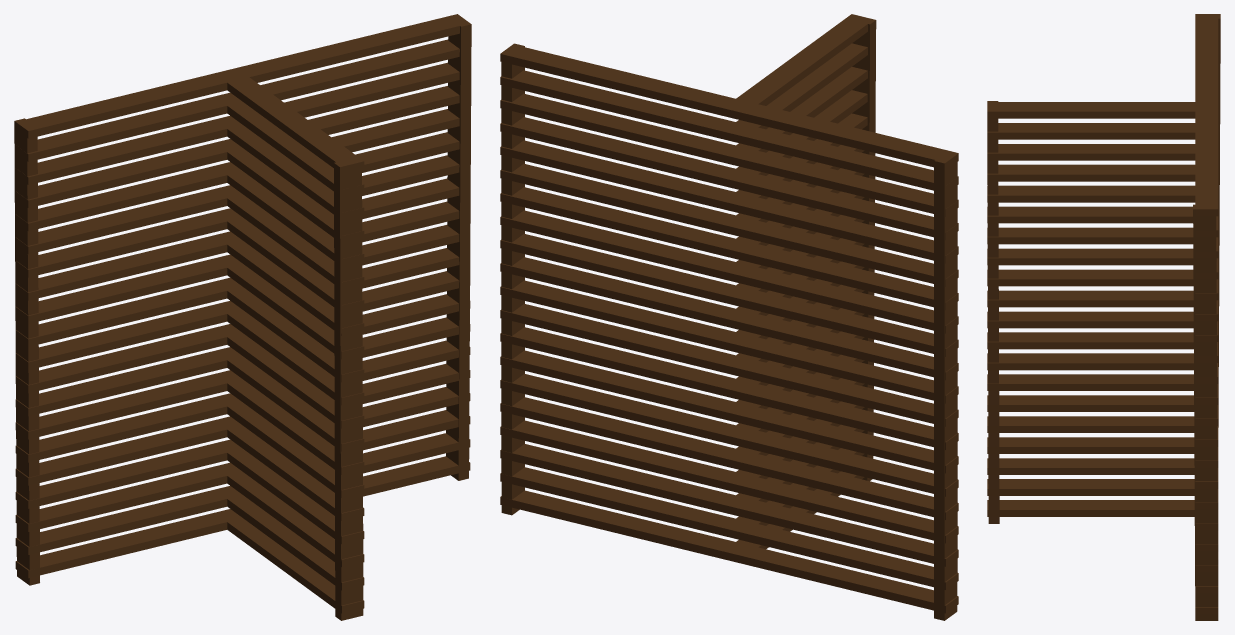
Rendered from T wall.glb.
3 renders of one model, left to right at view 1: azimuth 30°, elevation 25°; view 2: azimuth 150°, elevation 25°; view 3: azimuth 270°, elevation 25°, orthographic. The views are drawn at different scales.
Visible parts, largest first — view 1: Wall_with_planks_side_r.003, Wall_with_planks_side_r.005, Wall_with_planks_side_r.004, Wall_With_Planks_plank_19.005, Wall_With_Planks_plank_19.004, Wall_With_Planks_plank_18.004, Wall_With_Planks_plank_17.004, Wall_With_Planks_plank_16.004, Wall_With_Planks_plank_15.004, Wall_With_Planks_plank_11.004, Wall_With_Planks_plank_10.004, Wall_With_Planks_plank_14.004 (+51 smaller); view 2: Wall_with_planks_side_r.004, Wall_with_planks_side_r.005, Wall_With_Planks_plank_18.005, Wall_With_Planks_plank_19.005, Wall_With_Planks_plank_17.005, Wall_With_Planks_plank_16.005, Wall_With_Planks_plank_15.005, Wall_With_Planks_plank_14.005, Wall_With_Planks_plank_13.005, Wall_With_Planks_plank_11.005, Wall_With_Planks_plank_12.005, Wall_With_Planks_plank_10.005 (+51 smaller); view 3: Wall_with_planks_side_r.005, Wall_With_Planks_plank_15.003, Wall_With_Planks_plank_16.003, Wall_With_Planks_plank_11.003, Wall_With_Planks_plank_13.003, Wall_With_Planks_plank_12.003, Wall_With_Planks_plank_10.003, Wall_With_Planks_plank_09.003, Wall_With_Planks_plank_08.003, Wall_With_Planks_plank_07.003, Wall_With_Planks_plank_14.003, Wall_With_Planks_plank_19.003 (+13 smaller).
Part boxes in pixels (x1=…): Wall_with_planks_side_r.003: x1=334, y1=157, x2=363, y2=620; Wall_with_planks_side_r.005: x1=446, y1=15, x2=471, y2=480; Wall_with_planks_side_r.004: x1=14, y1=118, x2=39, y2=585; Wall_With_Planks_plank_19.005: x1=237, y1=14, x2=459, y2=82; Wall_With_Planks_plank_19.004: x1=15, y1=73, x2=227, y2=138; Wall_With_Planks_plank_18.004: x1=15, y1=96, x2=227, y2=161; Wall_With_Planks_plank_17.004: x1=15, y1=119, x2=227, y2=184; Wall_With_Planks_plank_16.004: x1=15, y1=142, x2=227, y2=208; Wall_With_Planks_plank_15.004: x1=15, y1=166, x2=227, y2=231; Wall_With_Planks_plank_11.004: x1=15, y1=258, x2=227, y2=323; Wall_With_Planks_plank_10.004: x1=15, y1=281, x2=227, y2=346; Wall_With_Planks_plank_14.004: x1=15, y1=189, x2=227, y2=254; Wall_with_planks_side_r.004: x1=934, y1=151, x2=957, y2=620; Wall_with_planks_side_r.005: x1=501, y1=43, x2=524, y2=515; Wall_With_Planks_plank_18.005: x1=500, y1=70, x2=735, y2=138; Wall_With_Planks_plank_19.005: x1=500, y1=47, x2=735, y2=115; Wall_With_Planks_plank_17.005: x1=500, y1=93, x2=735, y2=162; Wall_With_Planks_plank_16.005: x1=500, y1=117, x2=735, y2=185; Wall_With_Planks_plank_15.005: x1=500, y1=140, x2=735, y2=208; Wall_With_Planks_plank_14.005: x1=500, y1=163, x2=735, y2=232; Wall_With_Planks_plank_13.005: x1=500, y1=187, x2=735, y2=255; Wall_With_Planks_plank_11.005: x1=500, y1=233, x2=735, y2=302; Wall_With_Planks_plank_12.005: x1=500, y1=210, x2=735, y2=278; Wall_With_Planks_plank_10.005: x1=500, y1=257, x2=735, y2=325; Wall_with_planks_side_r.005: x1=1193, y1=204, x2=1218, y2=620; Wall_With_Planks_plank_15.003: x1=987, y1=185, x2=1195, y2=202; Wall_With_Planks_plank_16.003: x1=987, y1=164, x2=1195, y2=181; Wall_With_Planks_plank_11.003: x1=987, y1=269, x2=1193, y2=286; Wall_With_Planks_plank_13.003: x1=987, y1=227, x2=1193, y2=244; Wall_With_Planks_plank_12.003: x1=987, y1=248, x2=1193, y2=265; Wall_With_Planks_plank_10.003: x1=987, y1=290, x2=1193, y2=307; Wall_With_Planks_plank_09.003: x1=987, y1=311, x2=1193, y2=328; Wall_With_Planks_plank_08.003: x1=987, y1=332, x2=1193, y2=349; Wall_With_Planks_plank_07.003: x1=987, y1=353, x2=1193, y2=370; Wall_With_Planks_plank_14.003: x1=987, y1=206, x2=1192, y2=223; Wall_With_Planks_plank_19.003: x1=987, y1=102, x2=1218, y2=118.
Bounding box in the file's own units: 3 × 2.95 × 1.51.
